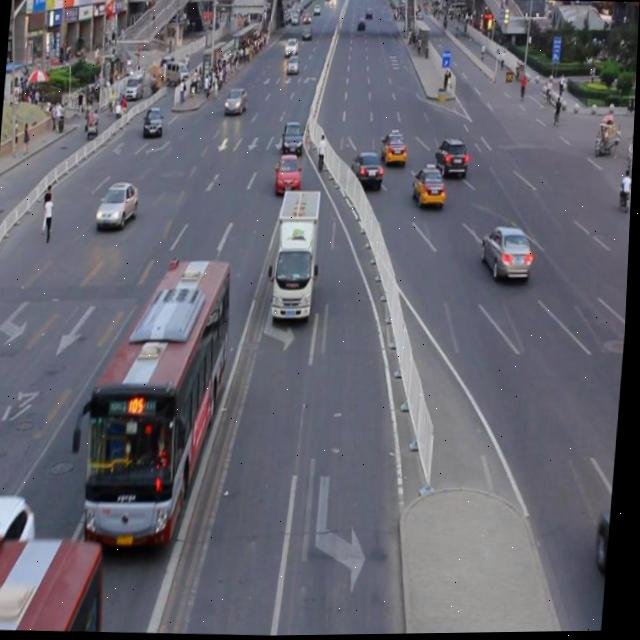bus: (266, 187, 326, 320)
car: (0, 493, 42, 631), (480, 227, 534, 284), (594, 504, 616, 624), (97, 182, 141, 226), (412, 163, 447, 207), (434, 138, 469, 179), (349, 153, 384, 188), (275, 153, 302, 193), (381, 129, 408, 165), (280, 122, 305, 155), (224, 87, 250, 113)
van: (70, 258, 234, 549), (0, 531, 111, 633)
